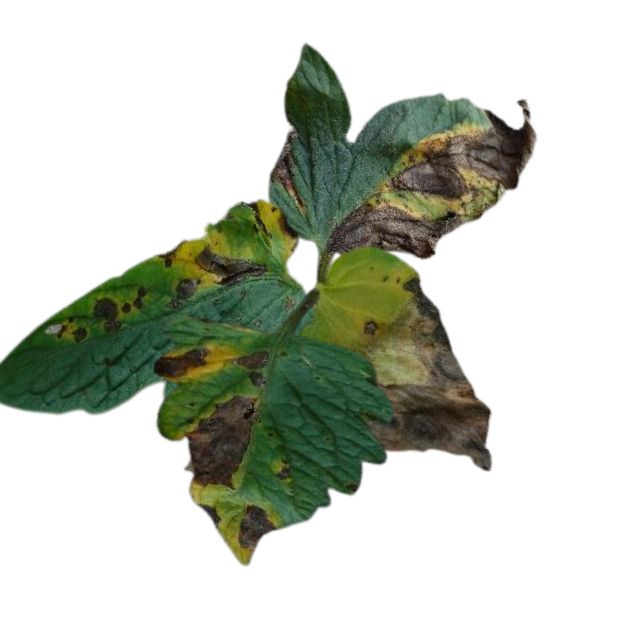Early_blight: (359, 274, 492, 474), (369, 100, 536, 201), (326, 201, 483, 259), (183, 391, 261, 491), (196, 245, 269, 291), (271, 129, 307, 211), (149, 344, 216, 383), (238, 499, 276, 550), (234, 350, 269, 390), (90, 297, 120, 330), (56, 315, 89, 344), (165, 279, 196, 306), (155, 244, 184, 272), (197, 501, 222, 529), (119, 287, 147, 312), (275, 215, 298, 241), (275, 454, 290, 481)
